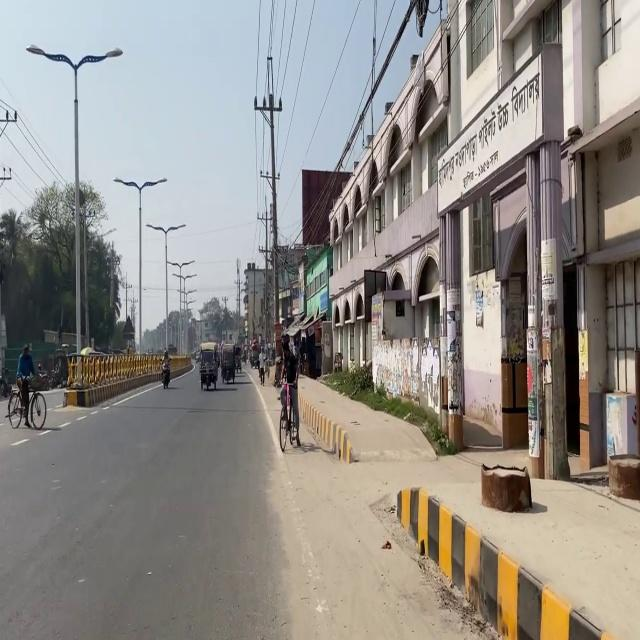Construction-barrier: (394, 483, 609, 638), (294, 371, 438, 463)
Fallen-tree: (198, 358, 218, 391)
Garbage: (480, 462, 531, 512)
Garbage-bin: (277, 334, 299, 430), (15, 344, 35, 426), (160, 350, 171, 388)
Light-pole: (536, 42, 570, 480)
Pole: (56, 338, 185, 425)
Pothole: (262, 359, 639, 639)
